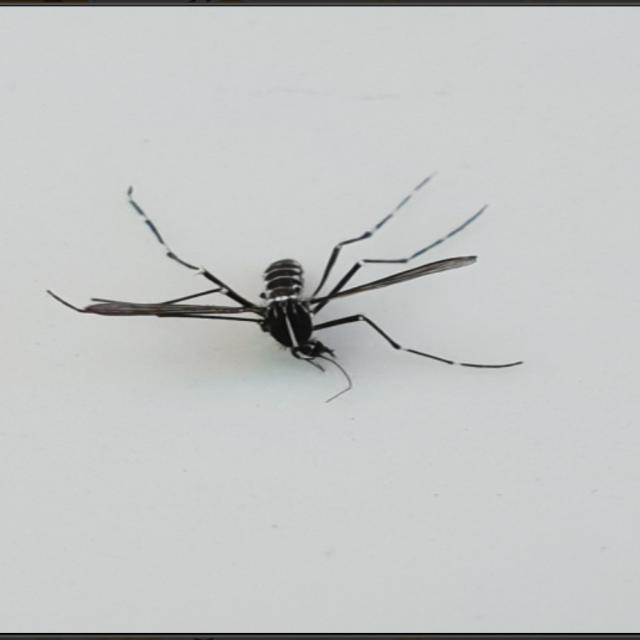albopictus: (62, 151, 525, 407)
